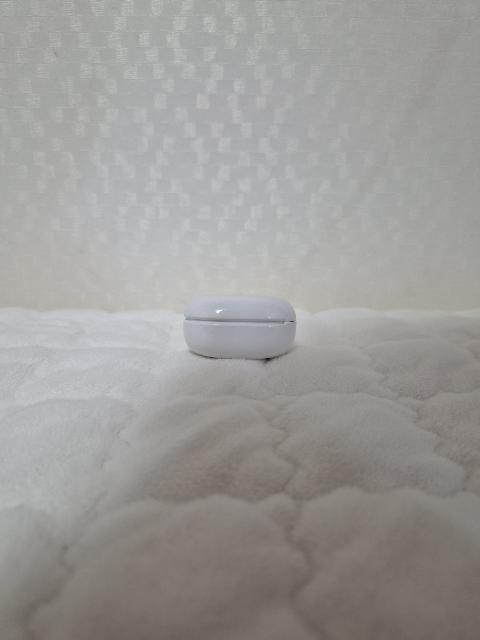earphone_case: (183, 294, 297, 359)
